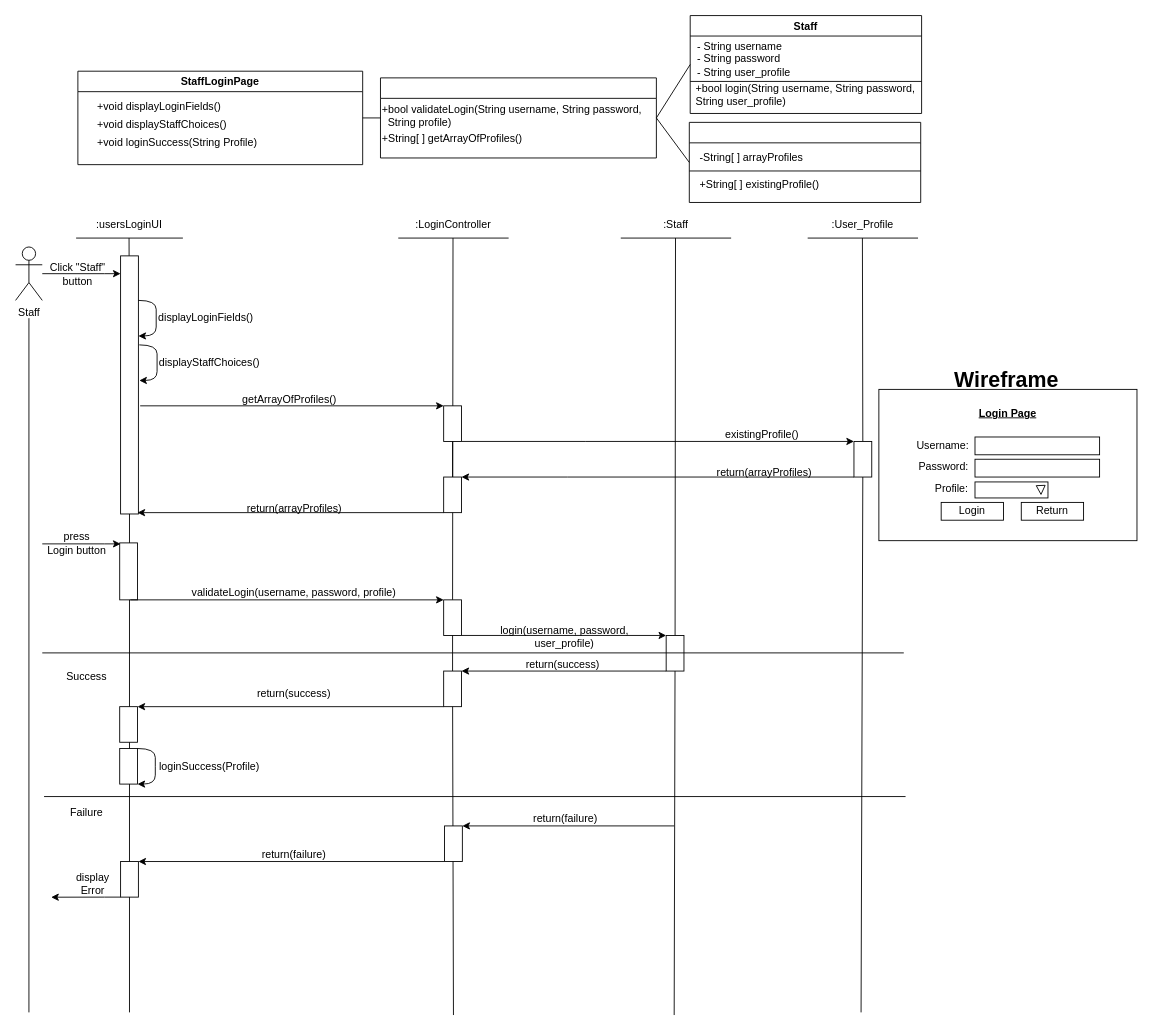
This 1153x1032 diagram has some shape labels left out. Here are the shapes that lost their labels. From the top down, the box of each, then its label:
(380, 77, 656, 158): LoginController
(688, 121, 921, 202): User_Profile
